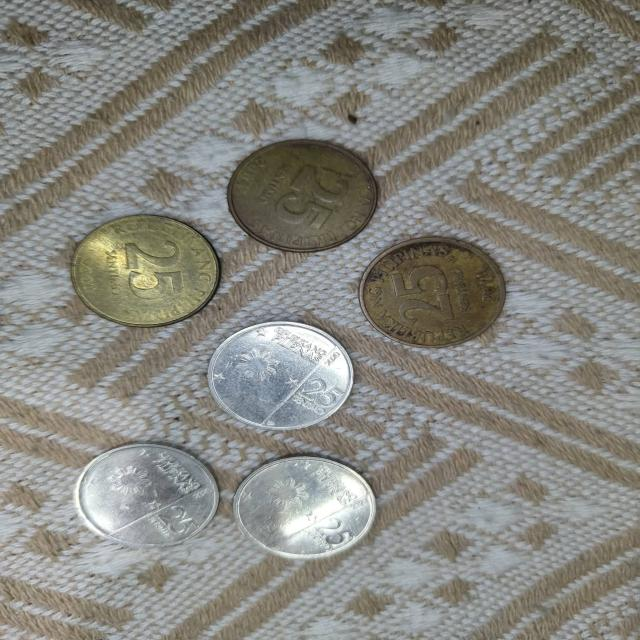25 cents: (207, 323, 354, 429), (74, 442, 218, 548), (233, 456, 375, 558)
25 cents-old: (225, 132, 383, 256), (71, 215, 220, 326), (358, 237, 504, 347)
